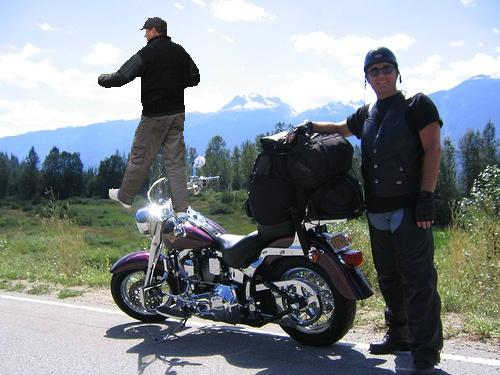tampered: (99, 18, 200, 217)
